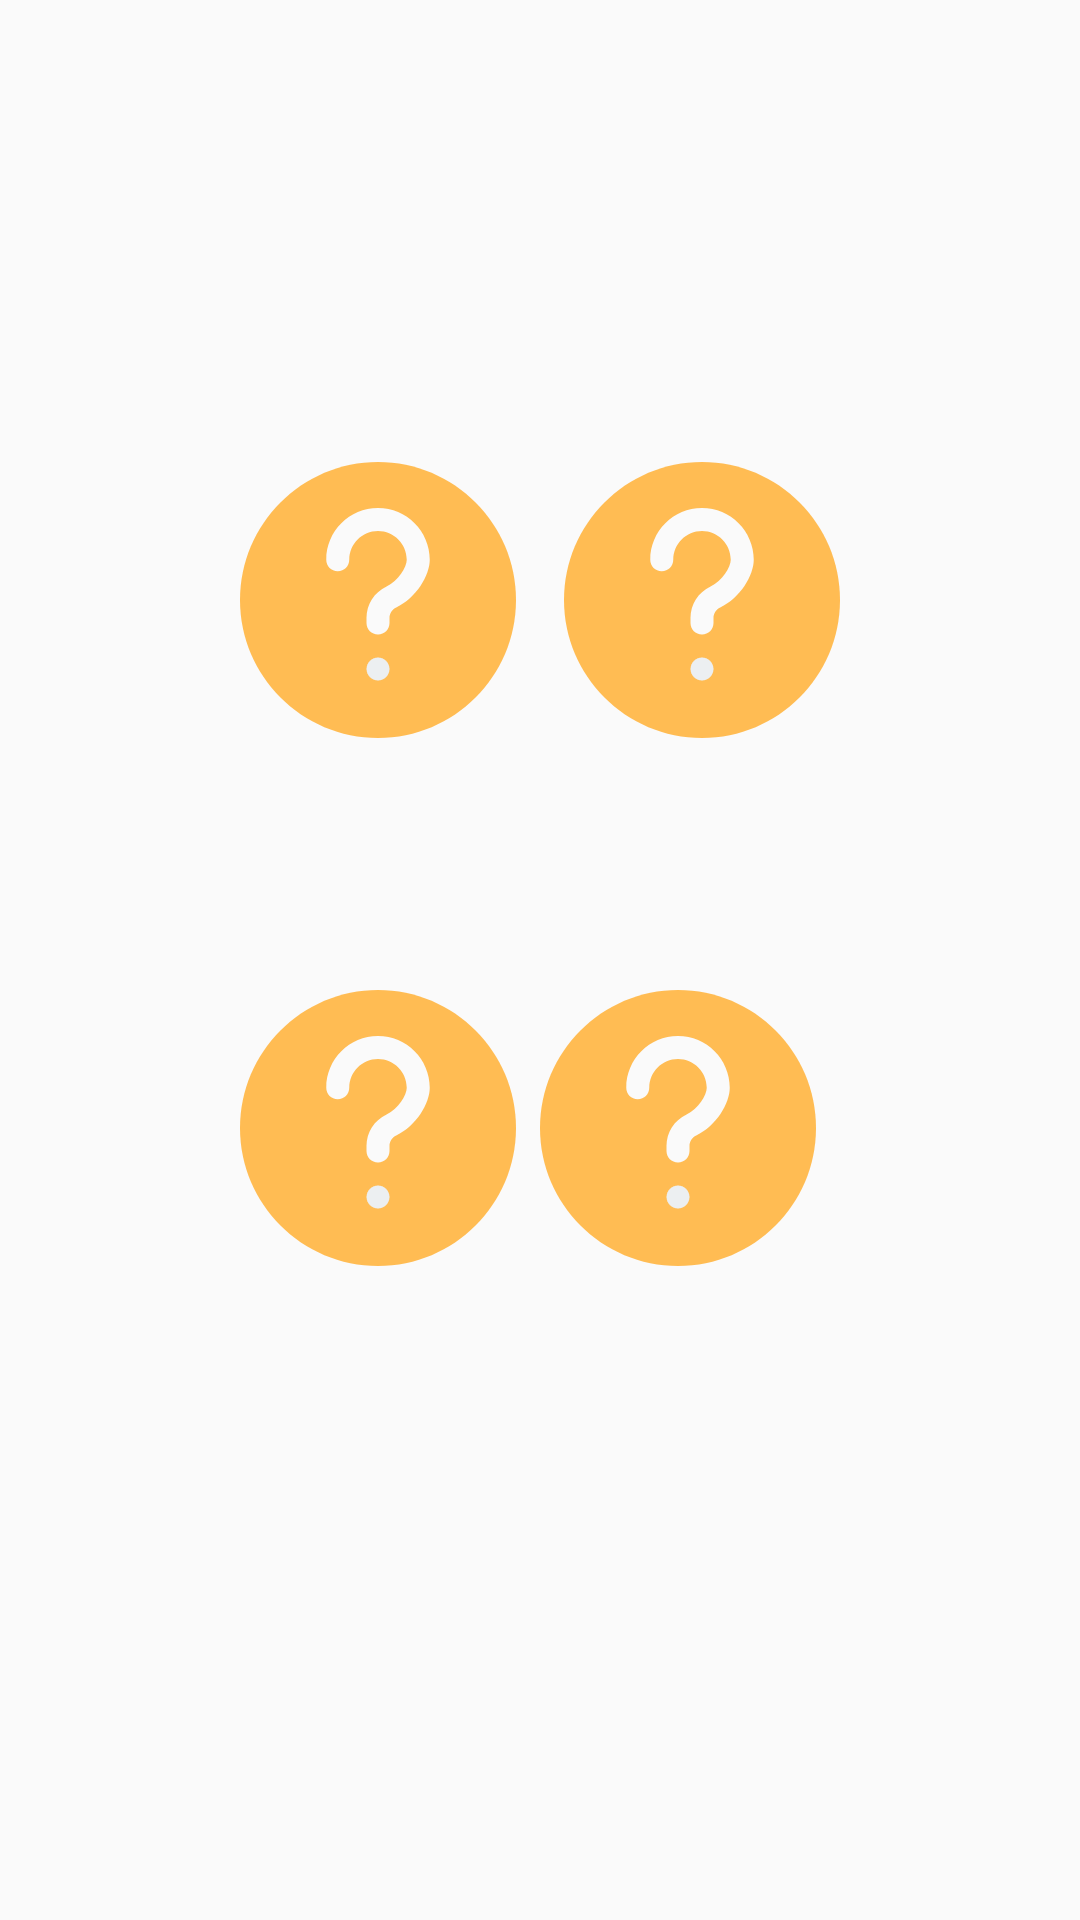

Screen size 1080px×1920px. Icon name, then its center in pixels as point (x, y):
question: point (378, 600), point (702, 600), point (378, 1128), point (678, 1128)
